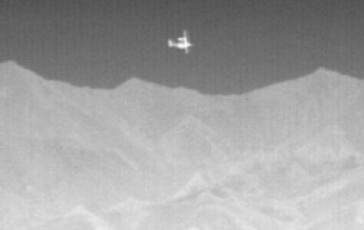Target: (169, 31, 192, 54)
